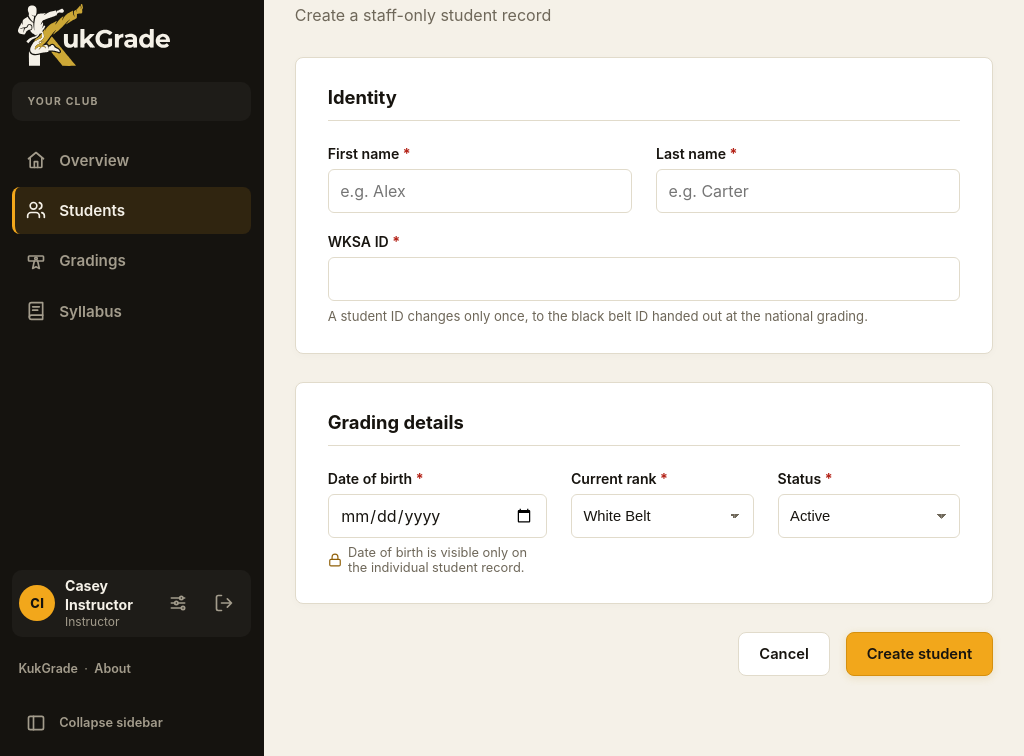
Scenario: Add student screen (/students/new) › blocks submission and shows client-side validation errors when required fields are empty
(page scrolled)
Submit empty form
Click the button "Create student" at {"x": 920, "y": 654}, box [846,632,993,676]
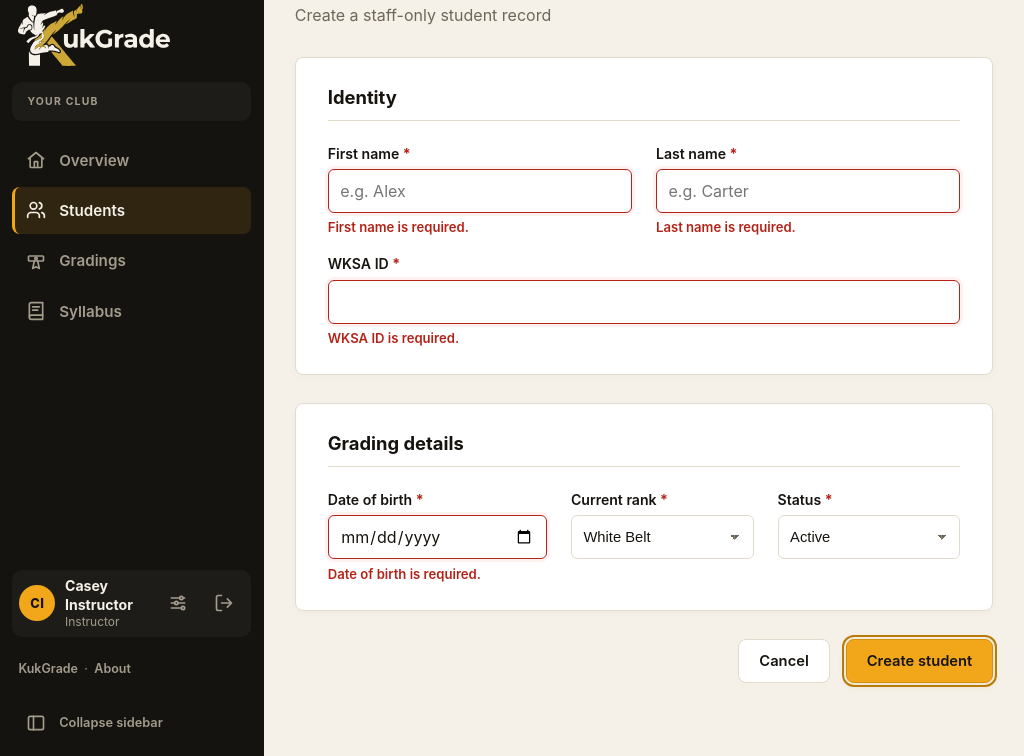
Expected: the text "First name is required." is shown, [328,219,469,235]
Expected: the text "Last name is required." is shown, [656,219,796,235]
Expected: the text "WKSA ID is required." is shown, [328,330,459,346]
